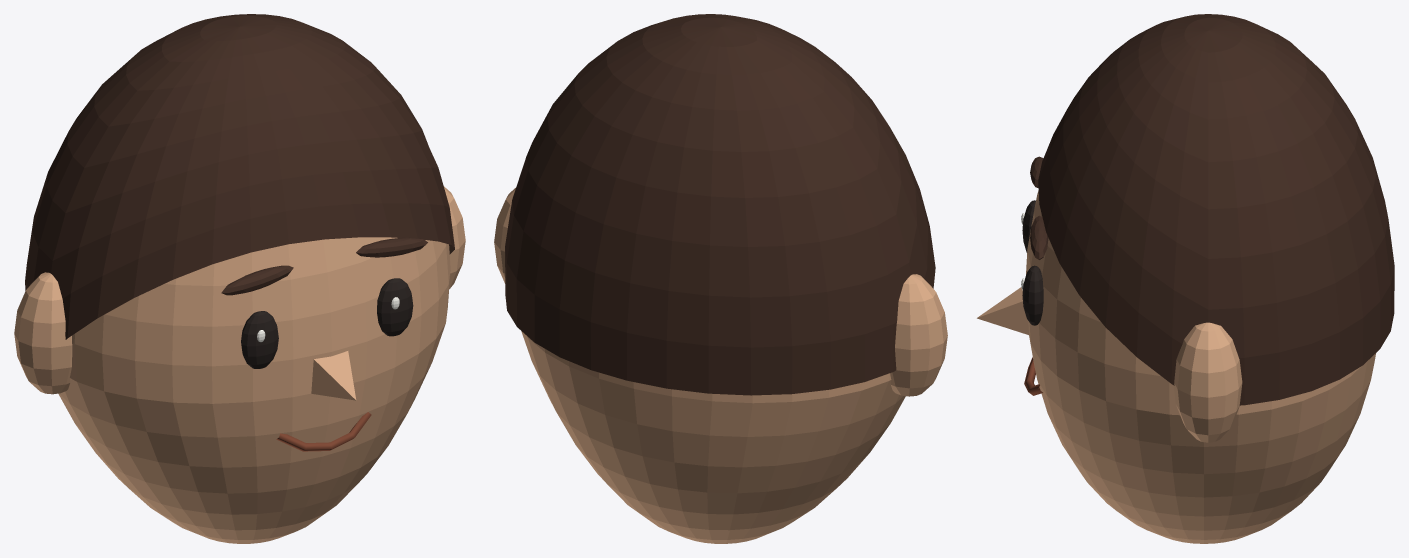
File: cabeca-mii-poligonal-01.glb
The picture shows the model from 3 angles, left to right: view 1: azimuth 30°, elevation 25°; view 2: azimuth 150°, elevation 25°; view 3: azimuth 270°, elevation 25°; orthographic projection.
Visible parts, largest first — view 1: Cabelo_01, Cabeca_01, Orelha_L, Nariz_01, Olho_L, Olho_R, Sobrancelha, Orelha_R, Sobrancelha.001, Boca_01; view 2: Cabelo_01, Cabeca_01, Orelha_L, Orelha_R; view 3: Cabelo_01, Cabeca_01, Orelha_R, Nariz_01, Olho_R, Sobrancelha.001.
Boxes of the visible parts, box(x1,y1,x2,y2) form: Cabelo_01: box(25, 14, 454, 339); Cabeca_01: box(58, 237, 450, 543); Orelha_L: box(14, 272, 72, 394); Nariz_01: box(311, 351, 356, 400); Olho_L: box(241, 311, 278, 368); Olho_R: box(377, 278, 413, 336); Sobrancelha: box(221, 265, 293, 295); Orelha_R: box(443, 186, 465, 288); Sobrancelha.001: box(356, 237, 427, 257); Boca_01: box(276, 412, 371, 451); Cabelo_01: box(505, 14, 935, 395); Cabeca_01: box(521, 331, 905, 543); Orelha_L: box(890, 274, 947, 396); Orelha_R: box(494, 188, 515, 283); Cabelo_01: box(1038, 14, 1394, 405); Cabeca_01: box(1026, 190, 1375, 543); Orelha_R: box(1173, 322, 1242, 442); Nariz_01: box(977, 287, 1028, 334); Olho_R: box(1022, 265, 1043, 325); Sobrancelha.001: box(1030, 215, 1048, 259).
Size of the model in its own units: 1.88 by 2.04 by 1.54.
